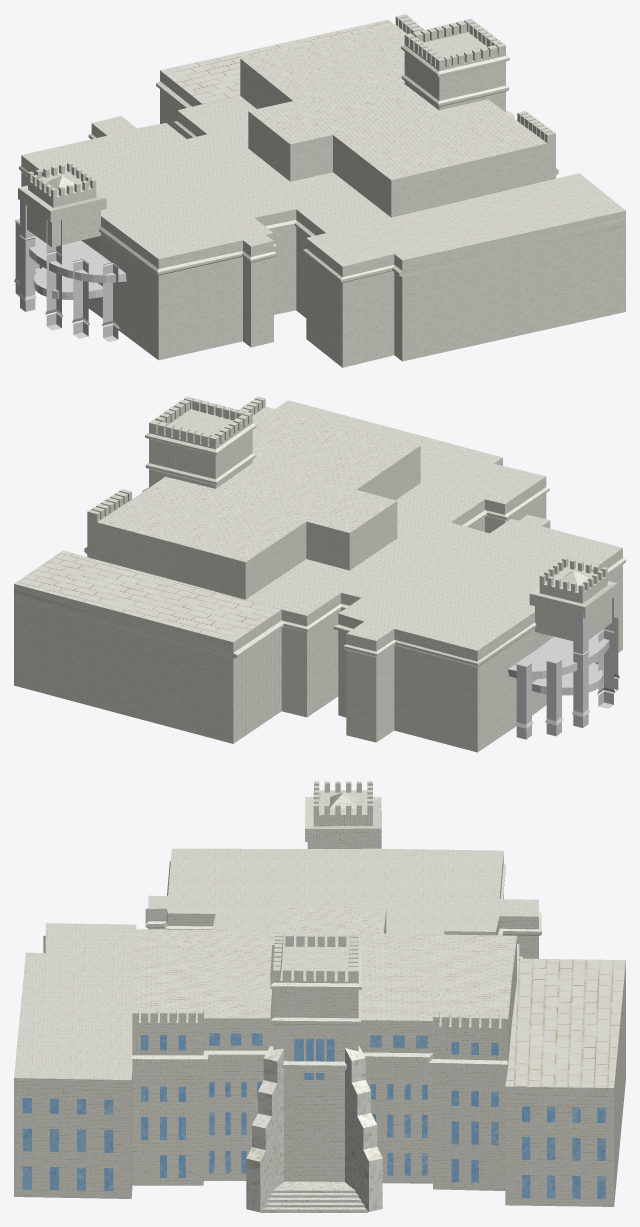
File: BradleyHallExtTexturedV7.gltf
3 views of the same model, one above another, from view 1: azimuth 30°, elevation 25°; view 2: azimuth 150°, elevation 25°; view 3: azimuth 270°, elevation 25° (orthographic). The views are drawn at different scales.
Parts seen in each view (by area): view 1: Bradley Hall, Back Pillars, Canopies; view 2: Bradley Hall, Back Pillars, Canopies; view 3: Bradley Hall, Front Pillars, Staircase.
Boxes of the visible parts, box(x1,y1,x2,y2) form: Bradley Hall: box(18, 14, 625, 367); Back Pillars: box(14, 200, 119, 341); Canopies: box(29, 236, 126, 299); Bradley Hall: box(14, 396, 625, 752); Back Pillars: box(515, 597, 619, 739); Canopies: box(507, 633, 609, 695); Bradley Hall: box(14, 781, 625, 1206); Front Pillars: box(246, 1045, 382, 1212); Staircase: box(260, 1181, 367, 1212).
Bounding box in the file's own units: 81.9 × 31.26 × 77.5.
5 materials, 4 textured.
